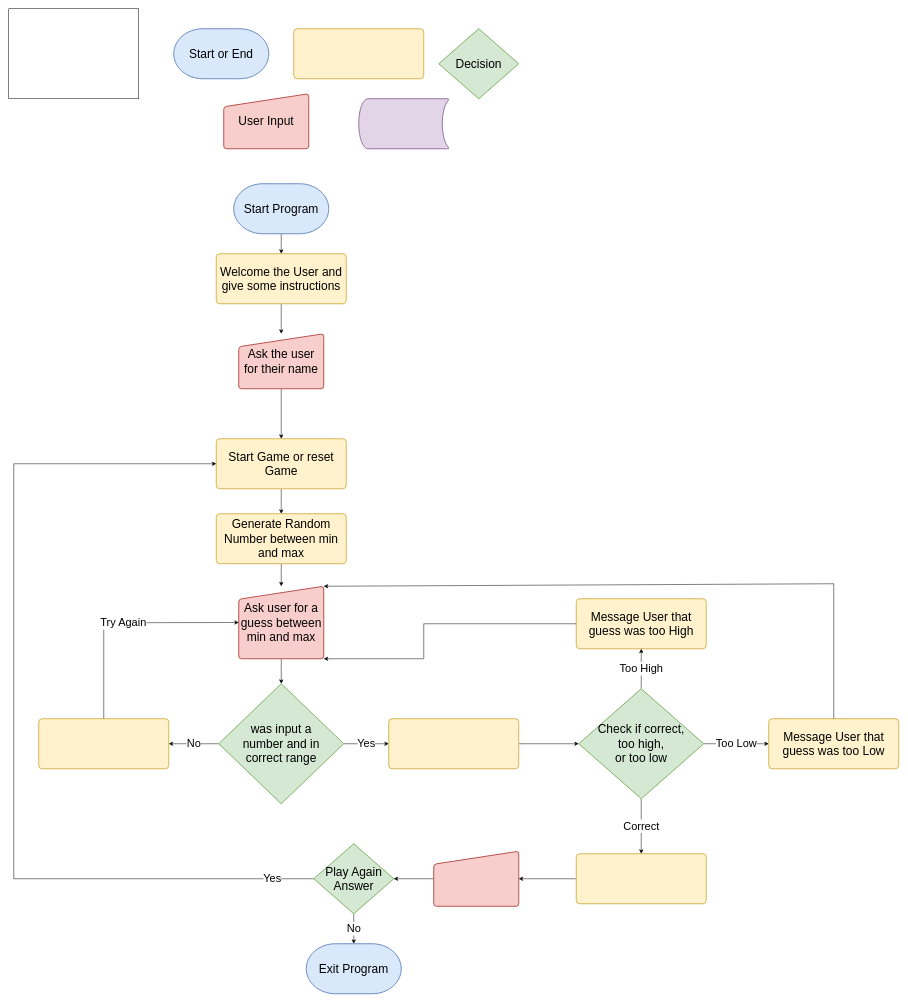
This 908x1003 diagram has some shape labels left out. The centre of each missing label's shape, as x and y in pixels:
"Congratulate User and display number of guess it took" belongs at (641,878).
"Increment the guess count" belongs at (453,743).
"Play Again?" belongs at (476,878).
"Process" belongs at (358,53).
"Show error message" belongs at (103,743).
"Stored Data" belongs at (403,123).
"Week 2 Demo 1 Flow Diagram Clint MacDonald Sept 5, 2025" belongs at (73,53).
